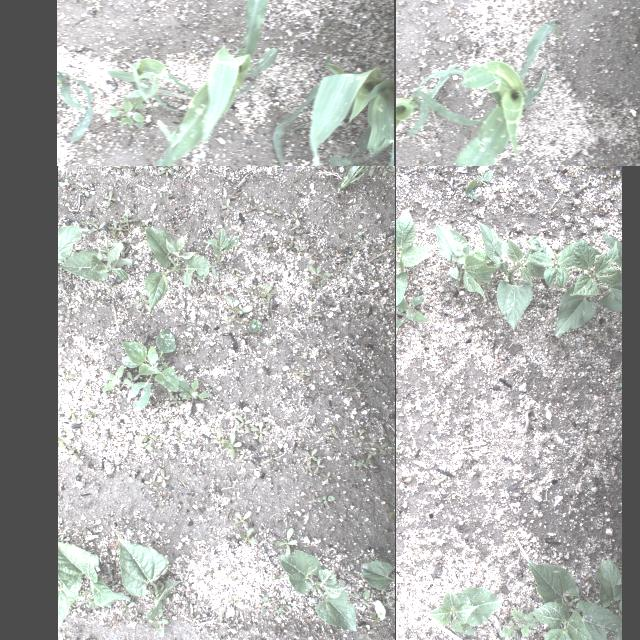crop: (105, 0, 277, 166), (396, 20, 559, 166), (57, 210, 209, 316), (273, 53, 392, 166), (396, 65, 494, 166), (528, 559, 617, 640), (478, 220, 542, 332), (554, 230, 622, 334), (57, 534, 129, 630), (276, 549, 356, 631), (108, 536, 180, 616), (432, 221, 496, 301), (396, 207, 435, 317), (426, 585, 504, 635), (58, 70, 92, 144), (528, 234, 576, 286), (594, 557, 621, 640), (202, 226, 240, 284), (358, 558, 394, 592)
weed: (119, 331, 187, 409), (337, 166, 394, 190), (396, 295, 427, 336), (498, 608, 540, 638), (107, 99, 143, 125), (463, 170, 492, 200), (225, 295, 252, 323), (271, 526, 299, 552), (306, 262, 330, 290), (180, 379, 212, 399), (224, 429, 246, 458), (101, 365, 123, 393), (149, 608, 169, 636), (234, 526, 258, 548), (248, 420, 270, 442), (235, 405, 252, 433), (372, 430, 390, 456), (352, 586, 372, 606), (58, 424, 74, 448), (232, 509, 252, 528), (359, 449, 378, 469), (341, 379, 362, 397), (210, 426, 226, 449), (292, 364, 312, 382), (138, 424, 158, 442), (282, 226, 298, 248), (134, 434, 152, 452), (396, 467, 411, 488), (353, 422, 367, 444), (315, 492, 337, 506), (384, 496, 394, 526), (120, 599, 136, 617), (358, 625, 378, 639), (220, 198, 234, 216), (262, 206, 282, 218), (64, 403, 76, 423), (365, 612, 385, 624), (157, 467, 169, 487), (167, 394, 183, 408), (292, 243, 306, 259), (259, 282, 273, 298), (262, 574, 284, 584), (81, 409, 99, 421), (312, 455, 324, 473), (65, 442, 83, 454), (246, 278, 258, 296), (104, 190, 116, 207), (302, 310, 322, 320), (304, 448, 318, 462), (248, 318, 262, 332), (434, 473, 448, 487), (78, 182, 90, 198), (58, 372, 74, 384), (291, 209, 301, 227), (261, 592, 271, 610), (157, 166, 177, 175), (328, 424, 340, 438), (258, 238, 272, 250), (122, 374, 136, 386), (226, 595, 242, 605), (142, 476, 158, 486), (320, 471, 332, 484), (173, 431, 187, 442), (283, 306, 295, 318), (184, 340, 196, 352), (272, 604, 284, 616), (366, 240, 378, 252), (299, 420, 313, 430), (384, 598, 394, 612), (378, 166, 393, 175), (396, 438, 402, 460), (431, 406, 439, 422), (351, 244, 365, 253), (230, 556, 240, 568), (130, 611, 140, 623), (301, 459, 311, 471), (382, 240, 394, 250), (348, 456, 356, 470), (74, 453, 85, 463), (332, 186, 343, 196), (82, 386, 92, 396), (306, 500, 316, 510), (76, 536, 86, 546), (342, 253, 352, 263), (231, 574, 243, 582), (190, 613, 198, 625), (230, 270, 242, 278), (334, 266, 350, 272), (356, 228, 364, 240), (58, 178, 70, 186), (268, 338, 282, 344), (312, 251, 320, 261), (160, 415, 168, 425), (282, 598, 290, 608), (234, 187, 240, 200), (105, 166, 120, 171), (307, 290, 313, 302), (138, 294, 144, 306), (320, 347, 328, 355), (249, 245, 257, 253), (80, 355, 88, 363), (160, 357, 168, 365), (97, 201, 105, 209), (262, 300, 270, 308), (322, 218, 328, 228), (157, 191, 167, 197), (100, 442, 110, 448), (358, 460, 368, 466), (238, 272, 244, 282), (298, 348, 306, 354), (281, 255, 285, 267), (87, 482, 95, 488), (60, 636, 70, 640), (57, 408, 61, 418), (221, 166, 231, 170), (260, 547, 266, 553), (236, 218, 242, 224), (185, 322, 191, 326), (494, 6, 498, 10)
